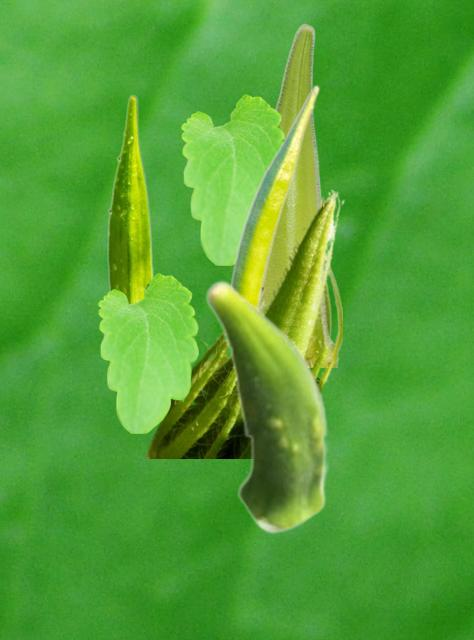okra: (143, 188, 344, 457), (204, 279, 329, 533), (263, 23, 341, 366), (229, 84, 319, 306), (107, 94, 155, 302)
